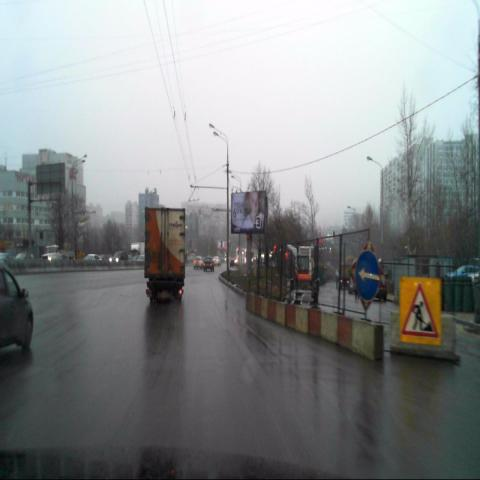4_1_2_2: (356, 250, 379, 300)
